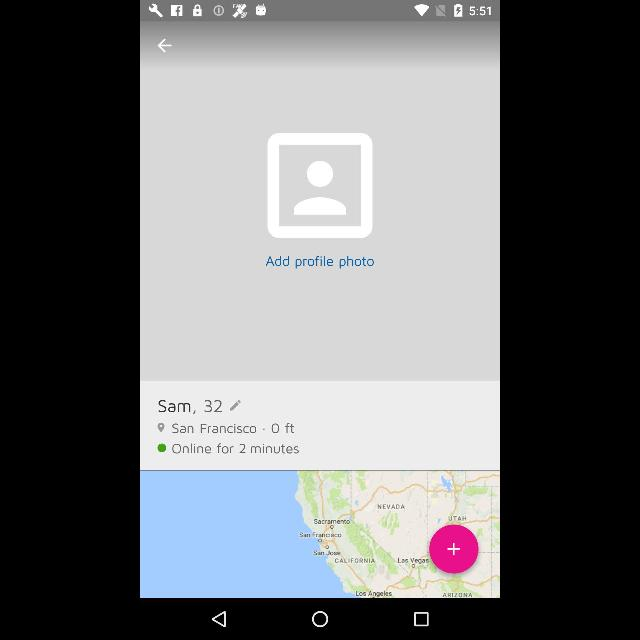button: (429, 524, 478, 574)
icon: (312, 612, 328, 628), (214, 611, 226, 629), (157, 38, 171, 52), (414, 612, 428, 626), (230, 398, 240, 412), (158, 422, 165, 432), (158, 445, 166, 453)
image: (140, 20, 500, 378)
map: (141, 471, 499, 597)
panel: (140, 598, 500, 640)
text: (266, 255, 374, 269), (172, 444, 300, 454), (158, 399, 224, 415), (172, 424, 256, 434), (270, 424, 296, 434)
uppertaskbar: (140, 1, 500, 20)
